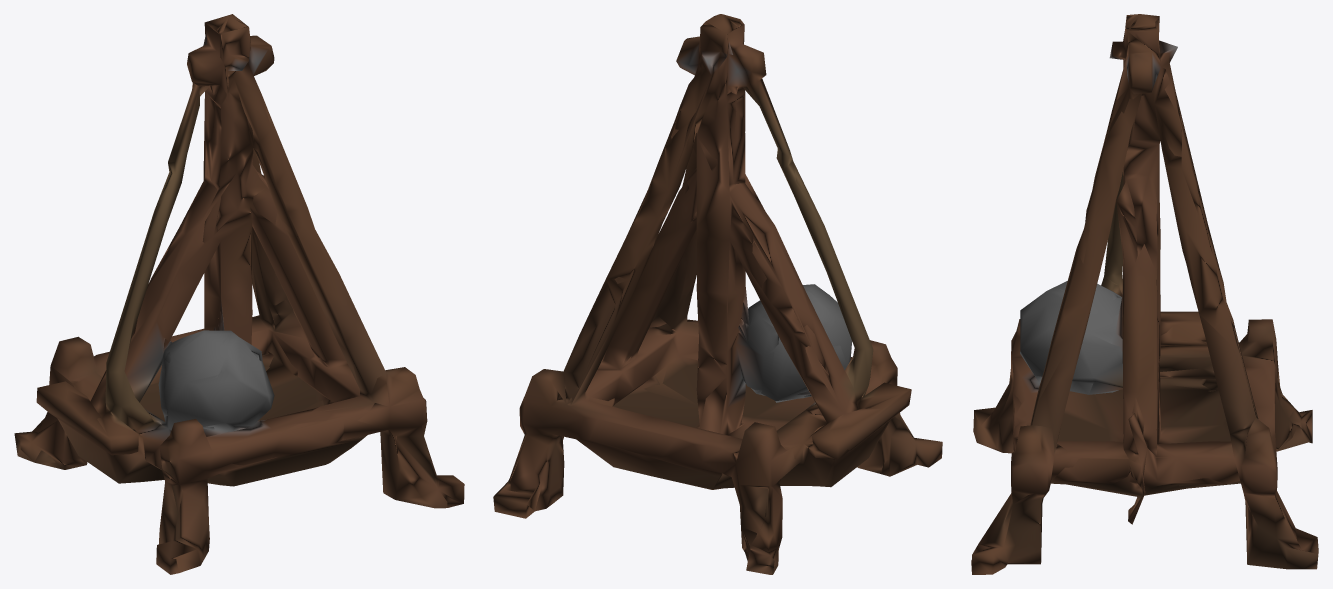
File: gen3d-castle-catapult-lod0.glb
3 renders of one model, left to right at view 1: azimuth 30°, elevation 25°; view 2: azimuth 150°, elevation 25°; view 3: azimuth 270°, elevation 25°, orthographic. The views are drawn at different scales.
Visible parts, largest first — view 1: part_0; view 2: part_0; view 3: part_0.
Boxes of the visible parts, x1,y1,x2,y2 form: part_0: (14,14,464,574); part_0: (493,14,942,574); part_0: (971,14,1318,574).
Size of the model in its own units: 0.692 by 1 by 0.6499.
